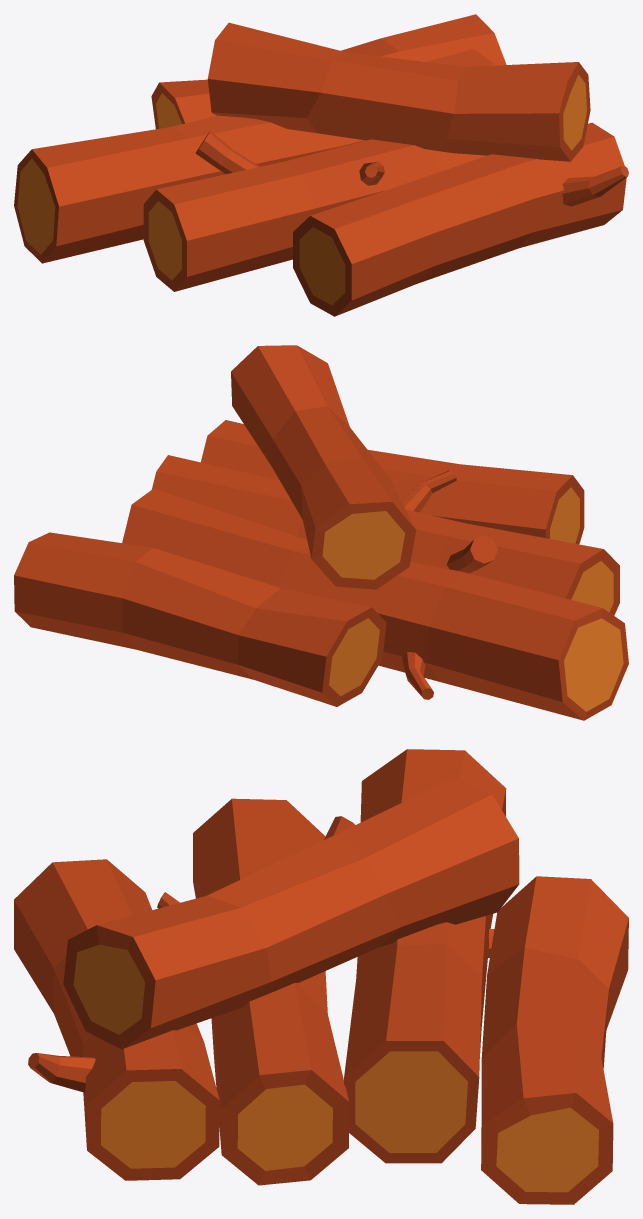
File: low_poly_fire_wood.glb
The picture shows the model from 3 angles, top to bottom: view 1: azimuth 30°, elevation 25°; view 2: azimuth 150°, elevation 25°; view 3: azimuth 270°, elevation 25°; orthographic projection. The views are drawn at different scales.
Visible parts, largest first — view 1: Item22; view 2: Item22; view 3: Item22.
Part boxes in pixels (x1,y1,x2,y2): Item22: (14, 14, 628, 316); Item22: (14, 345, 628, 720); Item22: (14, 749, 628, 1204).
Size of what is drawn, in the model's own units: 0.7131 by 0.2285 by 0.5547.
Materials: 1 (1 with a texture image).
